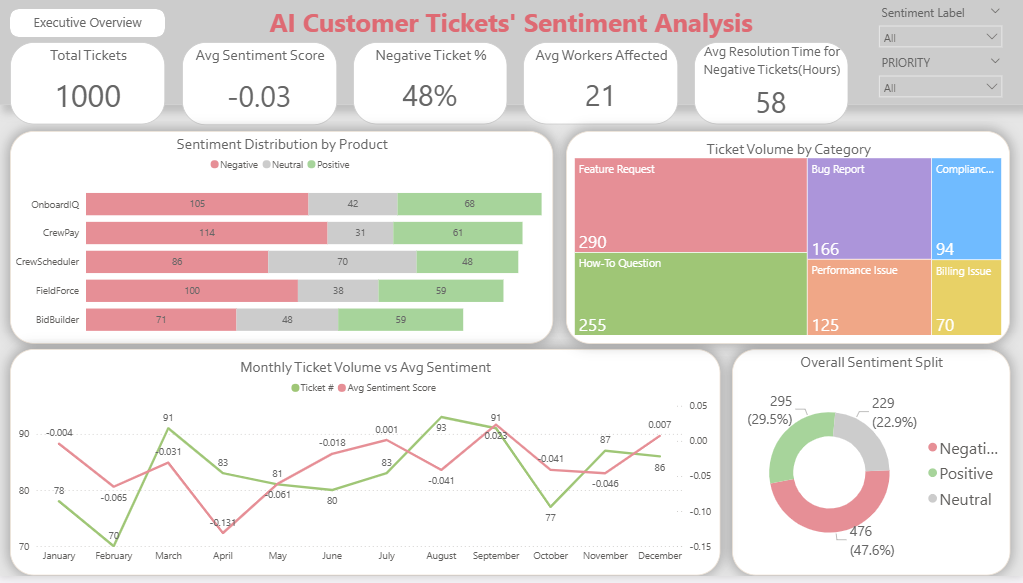

What the dashboard file says about the page in this screenshot:
{"tool":"powerbi","page":{"name":"Executive Overview","canvas":[1280,720],"ordinal":0},"visuals":[{"type":"shape","box":[0,0,1280,131.4],"z":0},{"type":"cardVisual","title":"Avg Sentiment Score","fields":{"Data":["FACT_SUPPORT_TICKET._Avg Sentiment Score"]},"box":[228.3,52.5,193.8,103.8],"z":1000},{"type":"cardVisual","title":"Negative Ticket %","fields":{"Data":["FACT_SUPPORT_TICKET.Negative Tickets %"]},"box":[441.9,53,192.9,102.9],"z":2000},{"type":"cardVisual","title":"Avg Workers Affected ","fields":{"Data":["FACT_SUPPORT_TICKET._Avg Workers Affected"]},"box":[654.5,53,194.3,102.9],"z":3000},{"type":"cardVisual","title":"Avg Resolution Time for Negative Tickets(Hours)","fields":{"Data":["FACT_SUPPORT_TICKET._Avg Resolution Time Negative (Hours)"]},"box":[868.6,53,192.9,102.9],"z":4000},{"type":"barChart","title":"Sentiment Distribution by Product","fields":{"Series":["FACT_SUPPORT_TICKET.SENTIMENT_LABEL"],"Category":["DIM_PRODUCT.PRODUCT_NAME"],"Y":["CountNonNull(FACT_SUPPORT_TICKET.TICKET_ID)"]},"box":[13.8,164,678.8,266.2],"z":5000},{"type":"cardVisual","title":"Total Tickets","fields":{"Data":["FACT_SUPPORT_TICKET._Total Tickets"]},"box":[14.3,53,194.3,102.9],"z":6000},{"type":"donutChart","title":"Overall Sentiment Split","fields":{"Y":["CountNonNull(FACT_SUPPORT_TICKET.TICKET_ID)"],"Category":["FACT_SUPPORT_TICKET.SENTIMENT_LABEL"]},"box":[916.2,436.7,347.5,282.5],"z":7000},{"type":"lineChart","title":"Monthly Ticket Volume vs Avg Sentiment","fields":{"Y":["CountNonNull(FACT_SUPPORT_TICKET.TICKET_ID)"],"Y2":["FACT_SUPPORT_TICKET._Avg Sentiment Score"],"Category":["FACT_SUPPORT_TICKET.Month Name"]},"box":[13.8,436.7,887.5,282.5],"z":8000},{"type":"treemap","title":"Ticket Volume by Category","fields":{"Group":["FACT_SUPPORT_TICKET.TICKET_CATEGORY"],"Values":["CountNonNull(FACT_SUPPORT_TICKET.TICKET_ID)"]},"box":[708.8,164,555,266.2],"z":9000},{"type":"slicer","fields":{"Values":["FACT_SUPPORT_TICKET.SENTIMENT_LABEL"]},"box":[1090,0,173.8,63.8],"z":10000},{"type":"slicer","fields":{"Values":["FACT_SUPPORT_TICKET.PRIORITY"]},"box":[1090,62.5,173.8,63.8],"z":11000},{"type":"textbox","box":[0,0,1280,52.5],"z":12000},{"type":"shape","box":[13.8,11.2,193.8,35],"z":13000},{"type":"textbox","box":[13.8,11.2,193.8,41.2],"z":14000}]}

Visuals, with their boxes in screenshot pixels (x1, y1, x2, y2), scaled from the page's 1280x720 canvas onto the 1023x583 screenshot:
shape: detection(0, 0, 1022, 106)
"Avg Sentiment Score" cardVisual: detection(182, 43, 337, 127)
"Negative Ticket %" cardVisual: detection(353, 43, 507, 126)
"Avg Workers Affected " cardVisual: detection(523, 43, 678, 126)
"Avg Resolution Time for Negative Tickets(Hours)" cardVisual: detection(694, 43, 848, 126)
"Sentiment Distribution by Product" barChart: detection(11, 133, 554, 348)
"Total Tickets" cardVisual: detection(11, 43, 167, 126)
"Overall Sentiment Split" donutChart: detection(732, 354, 1010, 582)
"Monthly Ticket Volume vs Avg Sentiment" lineChart: detection(11, 354, 720, 582)
"Ticket Volume by Category" treemap: detection(566, 133, 1010, 348)
slicer - FACT_SUPPORT_TICKET.SENTIMENT_LABEL: detection(871, 0, 1010, 52)
slicer - FACT_SUPPORT_TICKET.PRIORITY: detection(871, 51, 1010, 102)
textbox: detection(0, 0, 1022, 43)
shape: detection(11, 9, 166, 37)
textbox: detection(11, 9, 166, 42)
